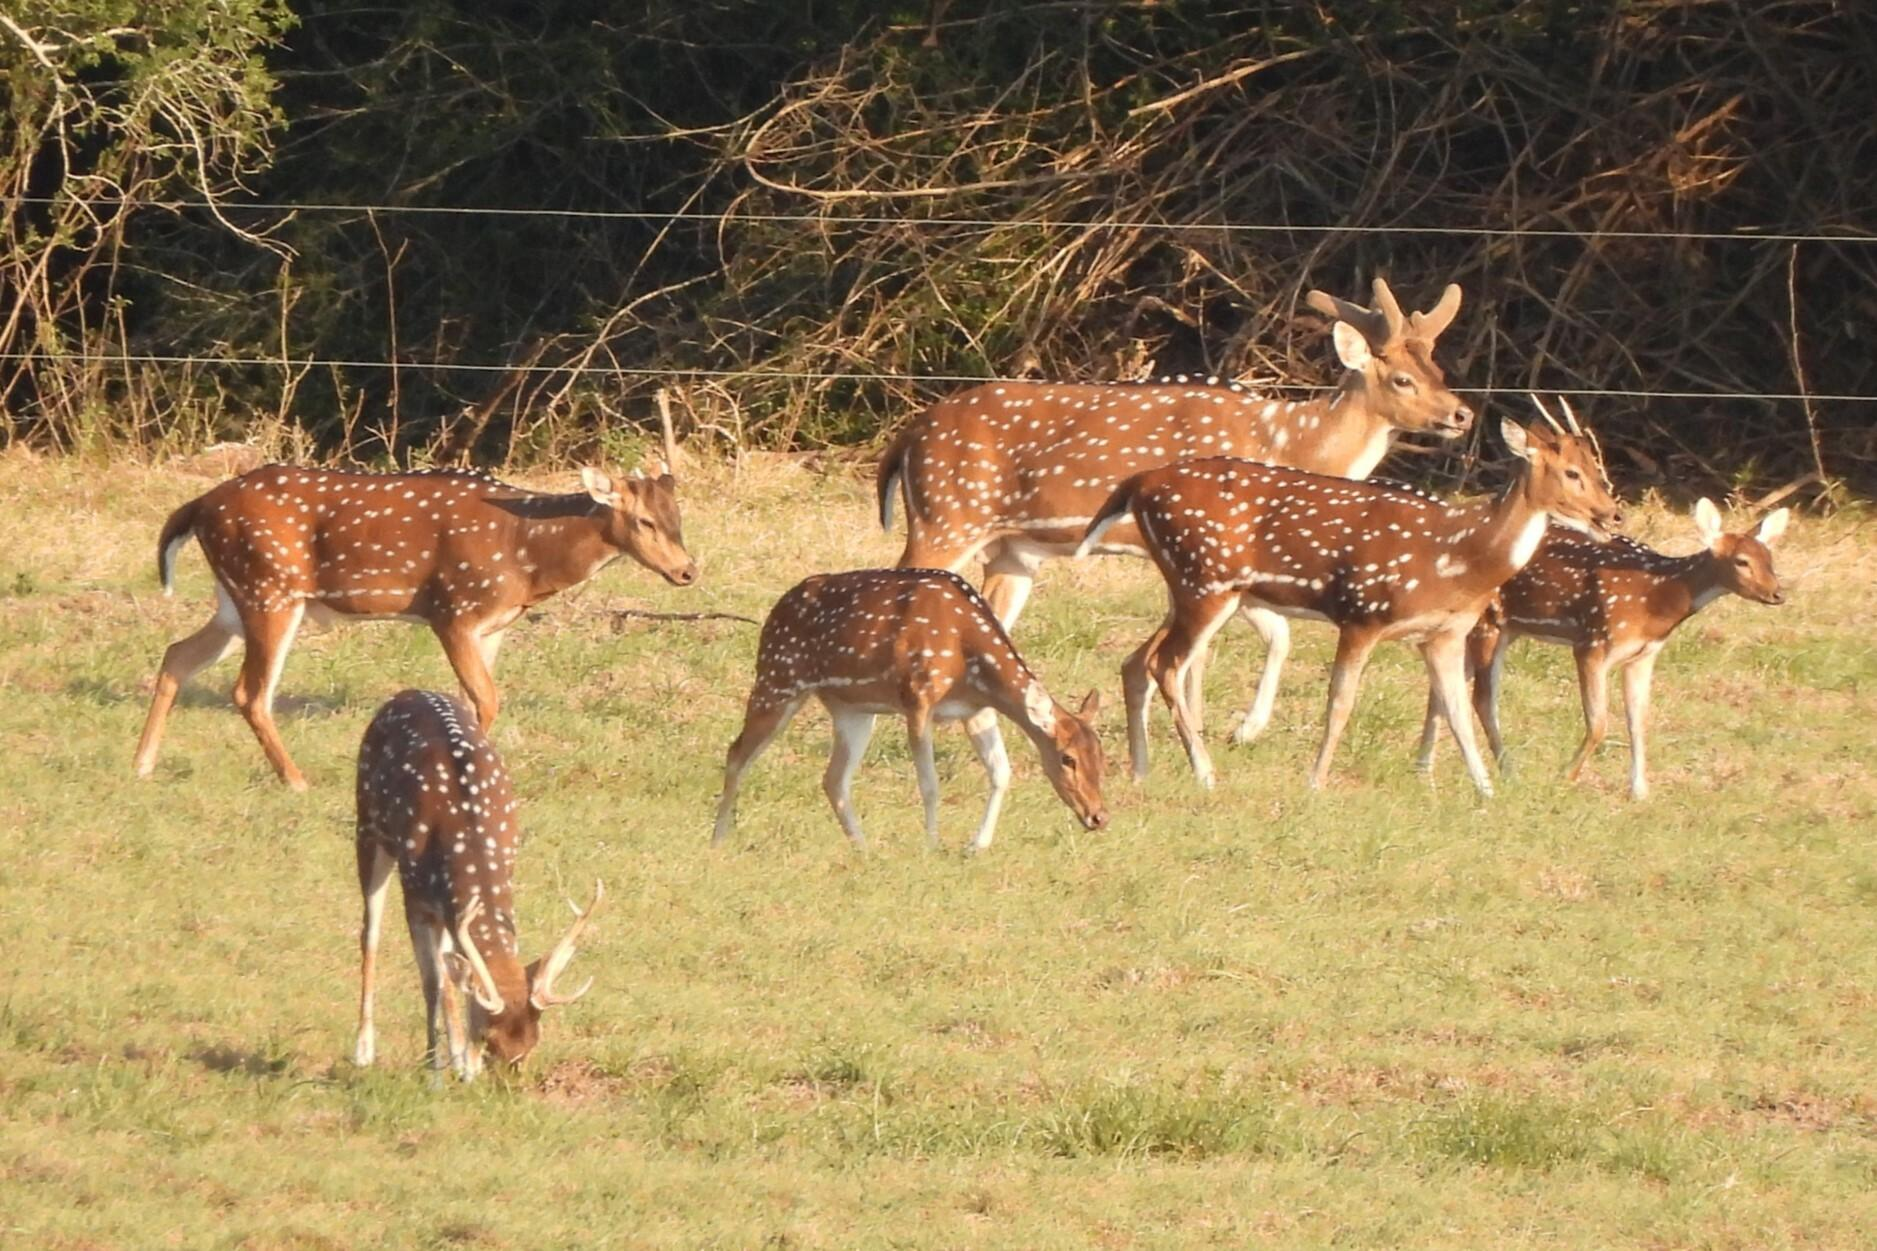Deer: (876, 279, 1474, 623), (1086, 422, 1619, 794), (133, 465, 699, 790), (715, 568, 1107, 849), (353, 688, 600, 1081), (1467, 500, 1788, 799)
